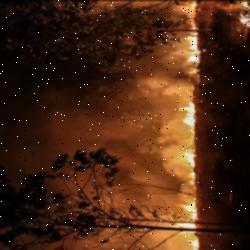fire: (145, 0, 202, 245)
